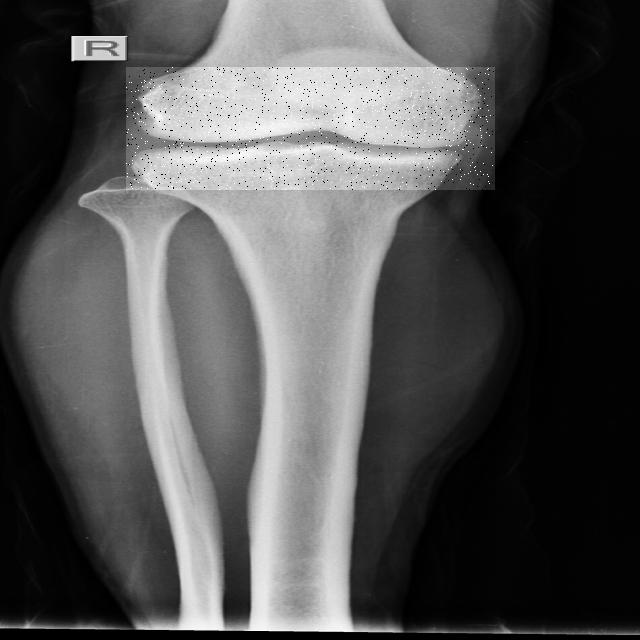normal: (126, 67, 495, 190)
